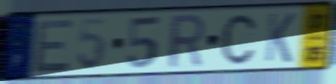5: (125, 14, 163, 71), (75, 17, 109, 73)
C: (221, 12, 258, 67)
E: (32, 17, 76, 75)
K: (263, 11, 298, 65)
R: (167, 13, 207, 71)
